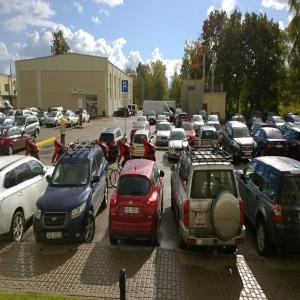Vehicle-registration-plate: (196, 213, 205, 225), (125, 207, 139, 214), (47, 233, 62, 239)
